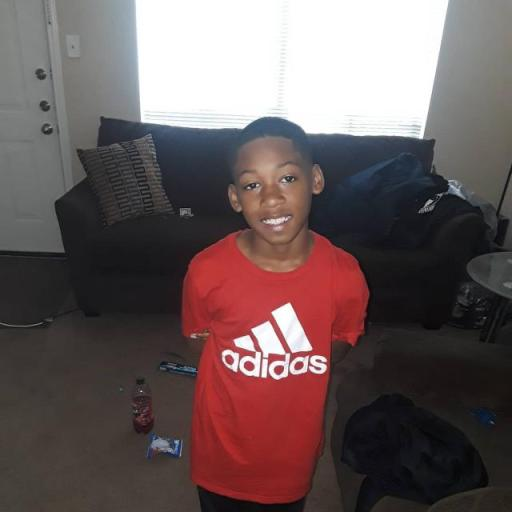Adidas: (219, 300, 330, 380)
